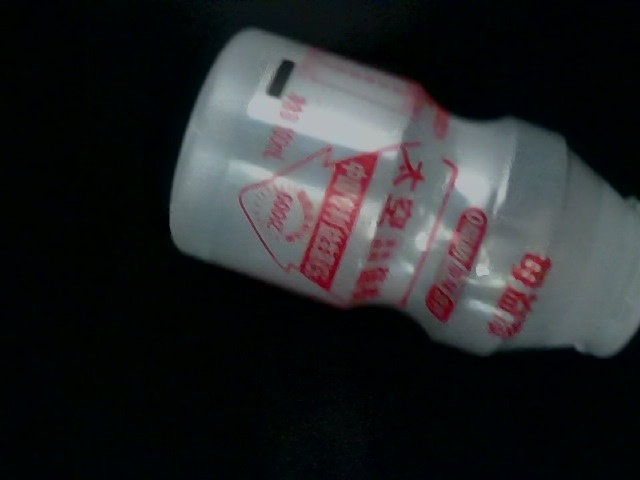CYLJ: (227, 72, 599, 317)
